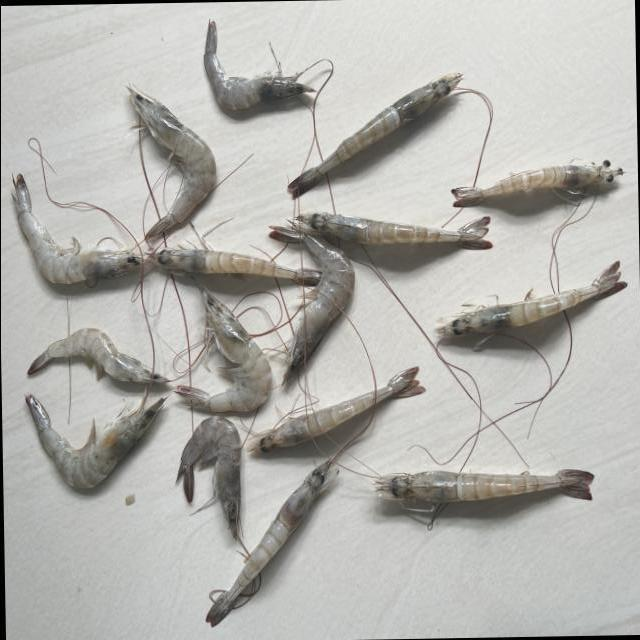shrimp: (206, 460, 338, 628), (289, 72, 461, 197), (247, 366, 426, 453), (437, 261, 628, 338), (12, 173, 140, 283), (126, 87, 215, 239), (269, 226, 354, 385), (24, 393, 164, 488), (175, 285, 271, 413), (203, 20, 315, 108), (452, 159, 624, 206), (176, 417, 240, 540), (26, 328, 168, 383), (296, 212, 493, 249), (376, 470, 594, 503), (148, 248, 321, 286)
